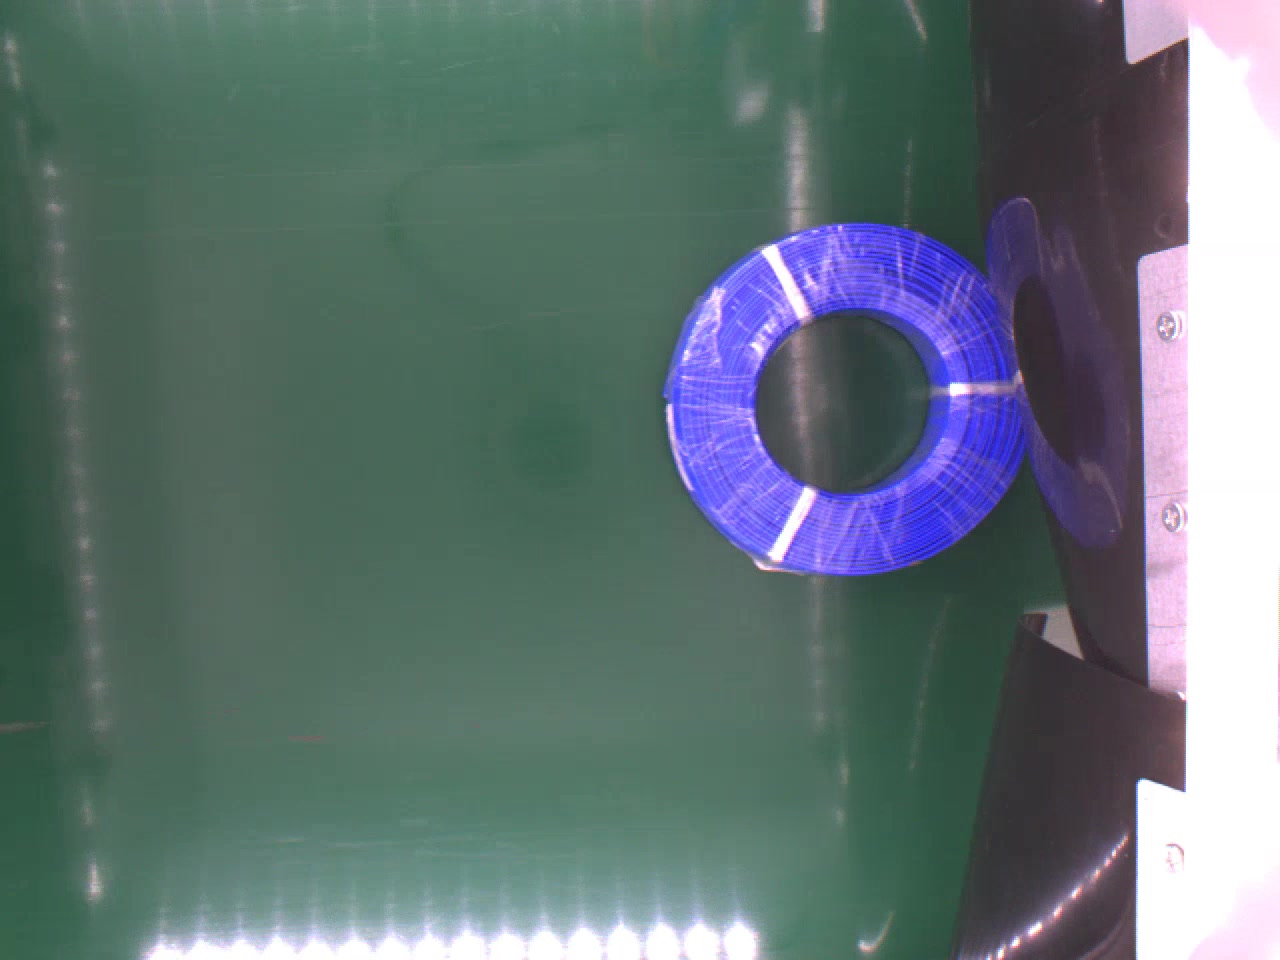blue: (659, 221, 1024, 578)
